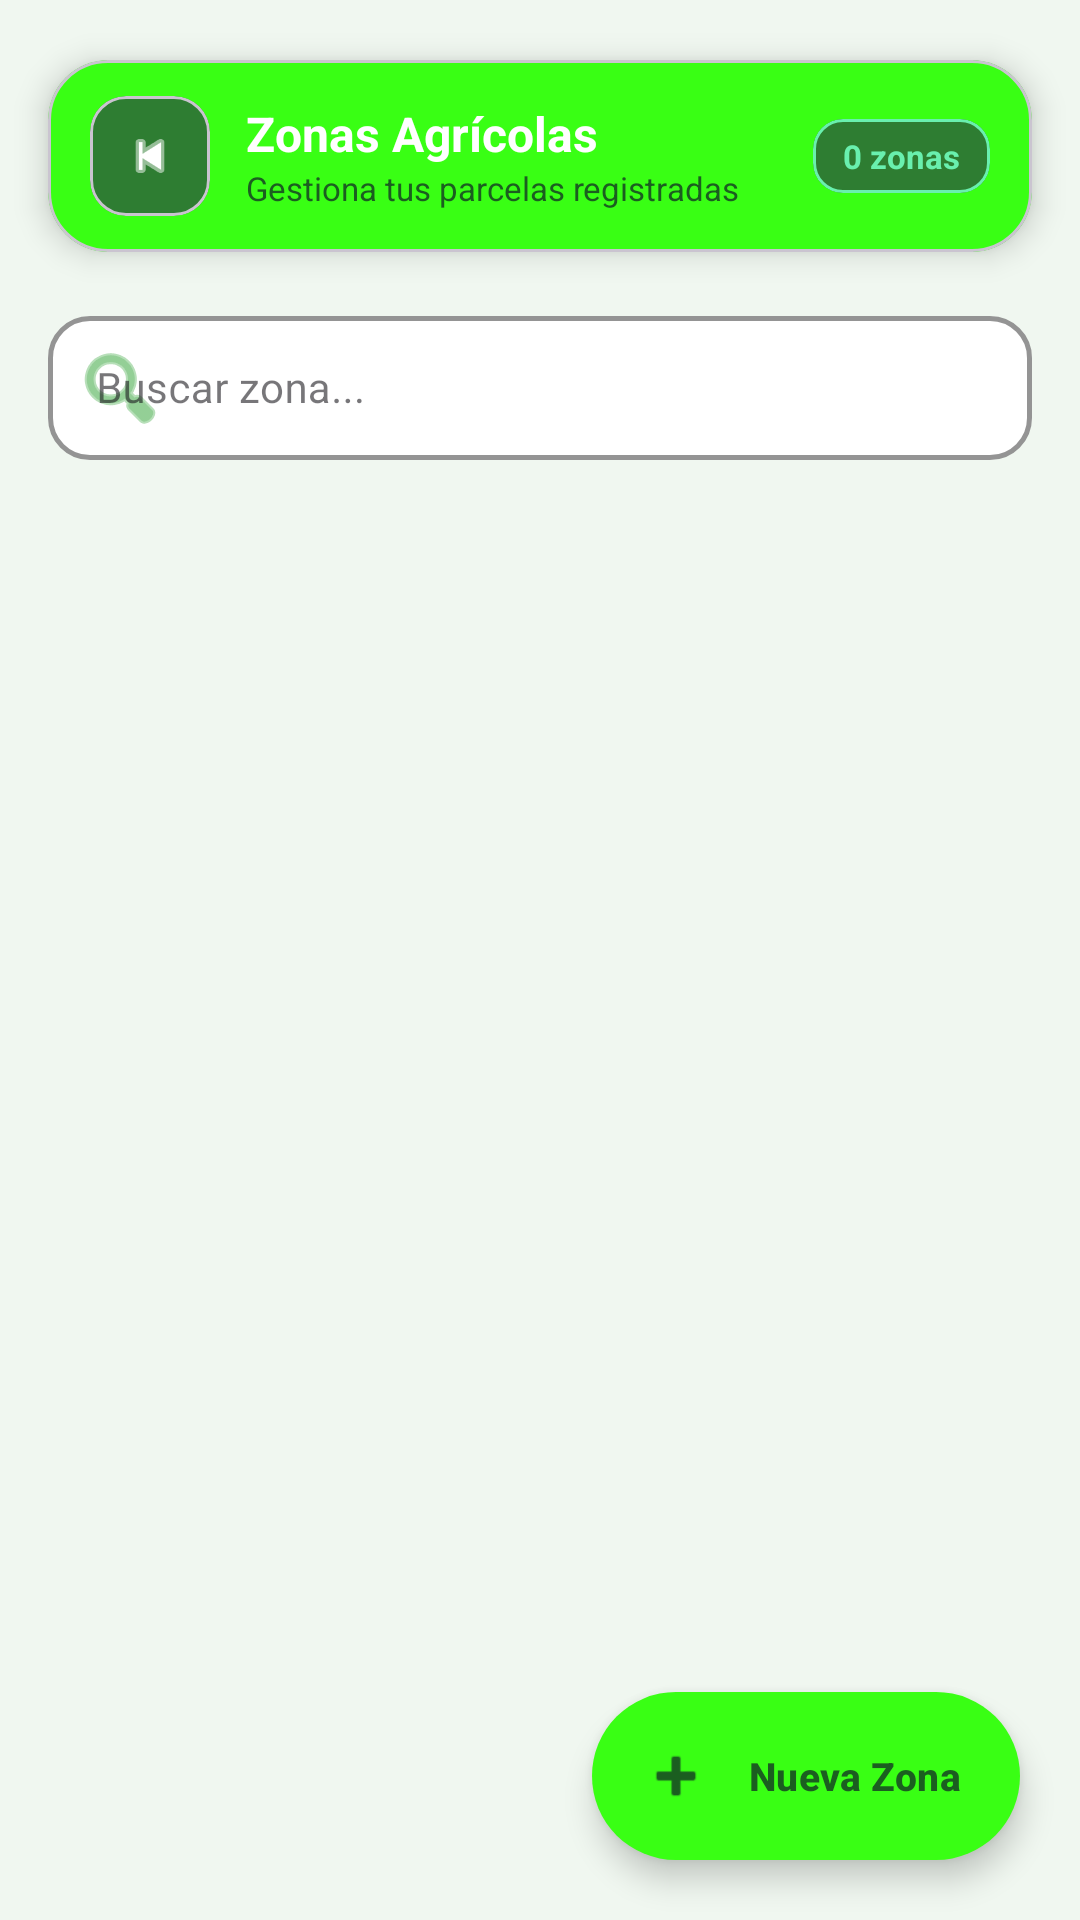

Icon bounding boxes for this 1080×1920 phone screenshot, format (x1, y1, x2, y2):
previous: (90, 96, 210, 216)
